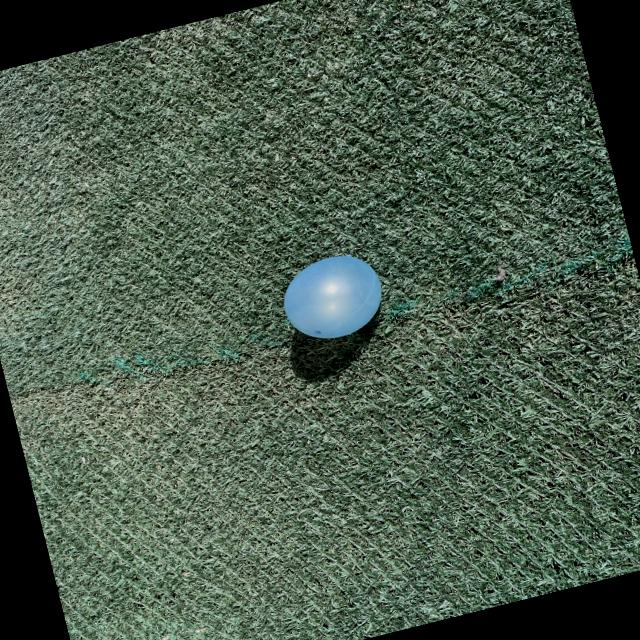balloon: (284, 255, 381, 338)
